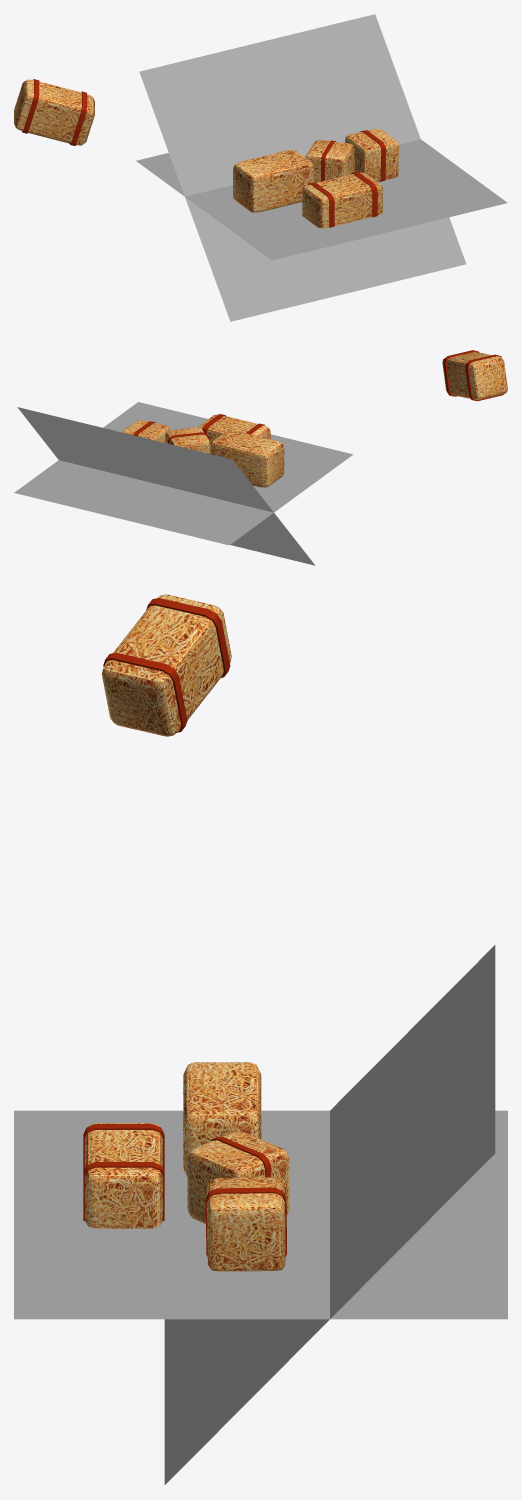
Rendered from hay.fbx.
3 renders of one model, top to bottom at view 1: azimuth 30°, elevation 25°; view 2: azimuth 150°, elevation 25°; view 3: azimuth 270°, elevation 25°, orthographic. The views are drawn at different scales.
Visible parts, largest first — view 1: pPlane2, pPlane1, pCube11, pCube15, pCube14, pCube12, pCube13; view 2: pPlane1, pPlane2, pCube15, pCube11, pCube14, pCube13, pCube12; view 3: pPlane1, pPlane2, pCube11, pCube14, pCube12, pCube15, pCube13.
Part boxes in pixels (box(x1,y1,x2,y2)): pPlane2: box(139, 14, 466, 321); pPlane1: box(136, 139, 507, 260); pCube11: box(14, 79, 94, 145); pCube15: box(233, 150, 313, 212); pCube14: box(302, 172, 382, 228); pCube12: box(345, 128, 399, 181); pCube13: box(305, 140, 354, 182); pPlane1: box(14, 402, 353, 545); pPlane2: box(17, 407, 315, 565); pCube15: box(210, 430, 284, 487); pCube11: box(442, 350, 507, 401); pCube14: box(198, 414, 270, 453); pCube13: box(165, 427, 210, 453); pCube12: box(122, 420, 169, 442); pPlane1: box(14, 1110, 507, 1319); pPlane2: box(164, 945, 495, 1484); pCube11: box(101, 594, 231, 736); pCube14: box(83, 1123, 164, 1228); pCube12: box(205, 1177, 286, 1271); pCube15: box(183, 1062, 261, 1177); pCube13: box(187, 1131, 289, 1223).
Size of the model in its own units: 77.95 by 46.25 by 41.01.
4 materials, 1 textured.
